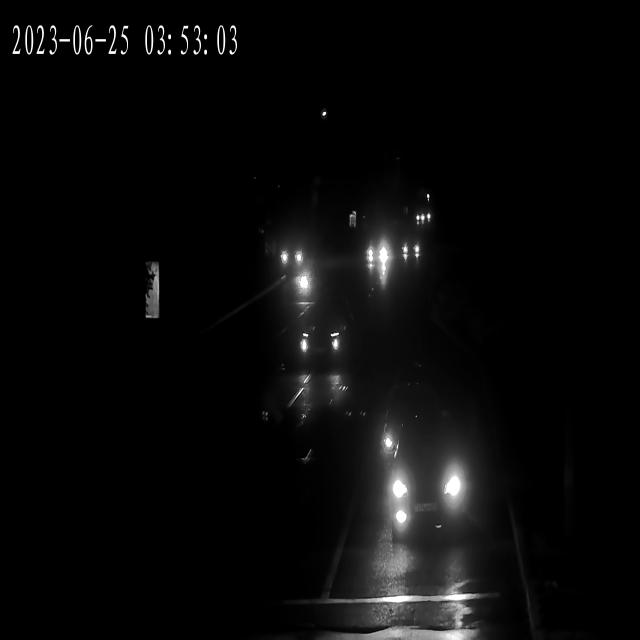Car: (382, 439, 473, 533), (367, 388, 438, 461), (296, 311, 346, 366), (277, 240, 309, 268), (362, 238, 390, 266), (402, 237, 423, 259), (399, 239, 420, 260), (412, 211, 430, 225)
